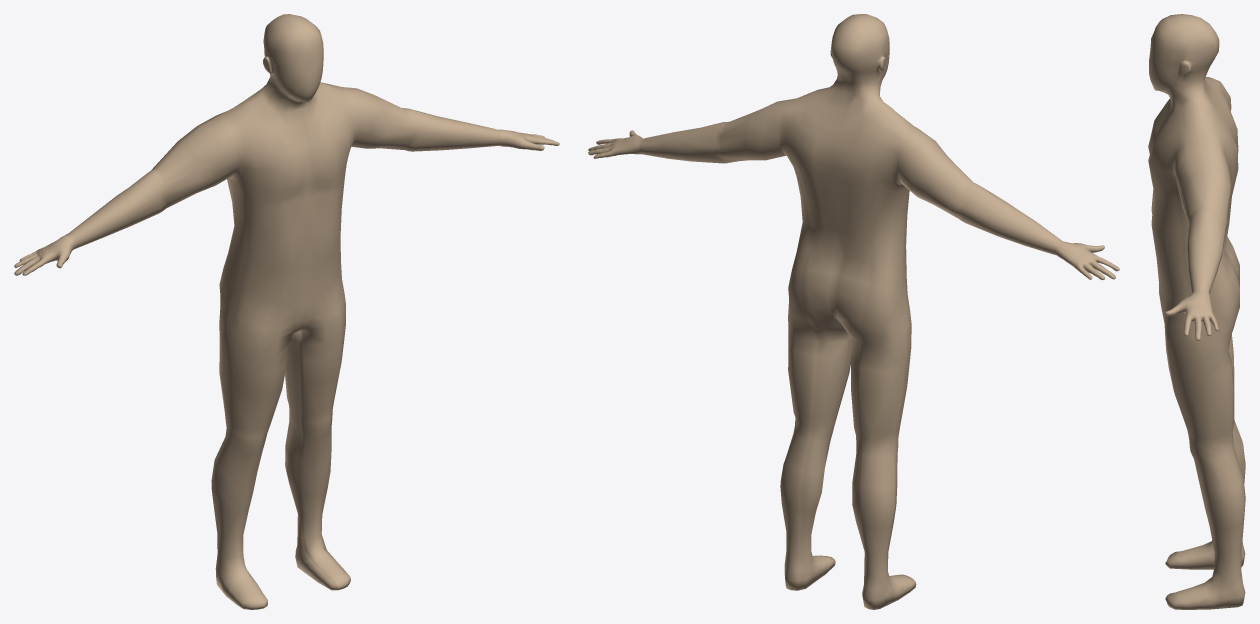
The model's file is CH_MainCharacterAdamMagro.fbx.
The picture shows the model from 3 angles, left to right: view 1: azimuth 30°, elevation 25°; view 2: azimuth 150°, elevation 25°; view 3: azimuth 270°, elevation 25°; orthographic projection. The views are drawn at different scales.
Parts seen in each view (by area): view 1: Retopologia.002; view 2: Retopologia.002; view 3: Retopologia.002.
Boxes of the visible parts, bbox=[...] form: Retopologia.002: bbox=[14, 14, 559, 609]; Retopologia.002: bbox=[588, 14, 1119, 609]; Retopologia.002: bbox=[1148, 14, 1245, 609].
Size of the model in its own units: 177 by 180 by 27.97.
